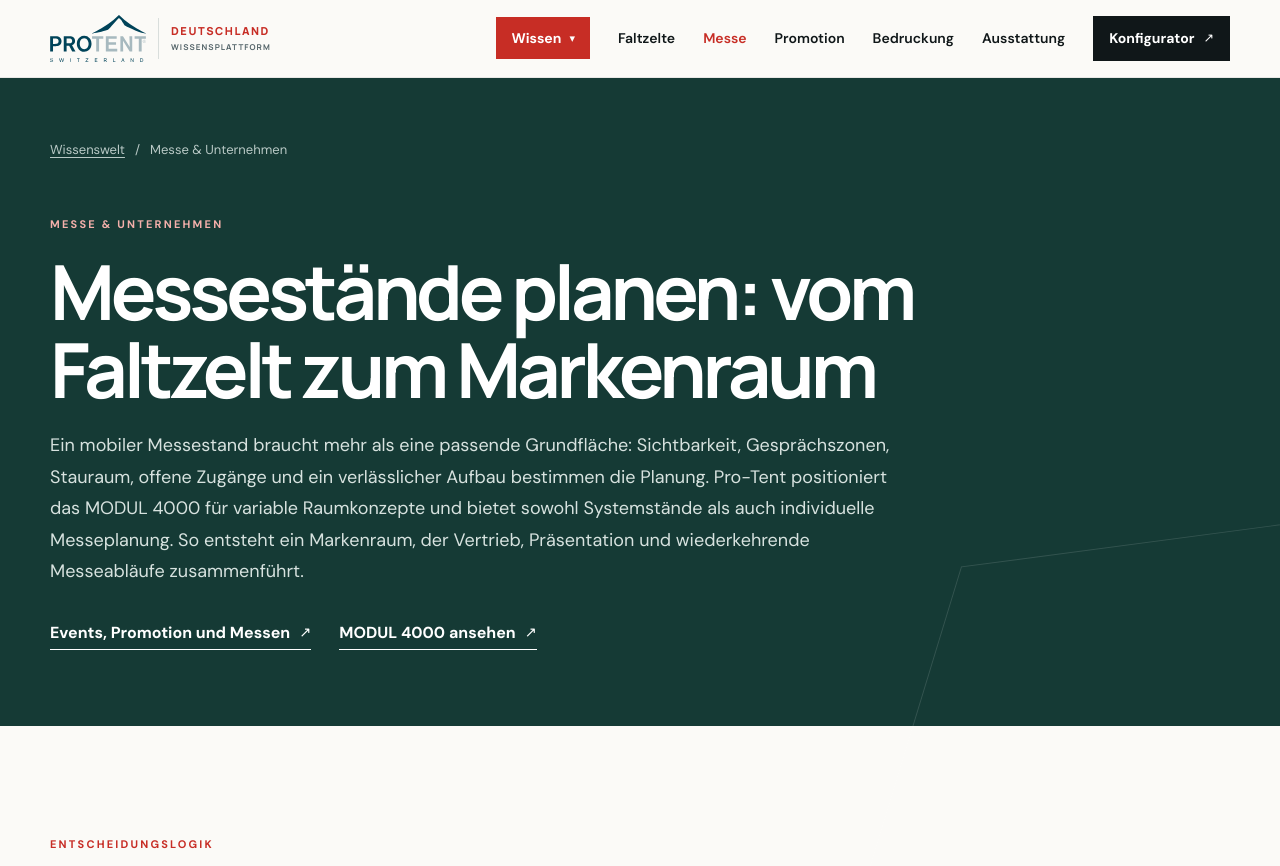
Test: routing › öffnet unter Wissen erst Themenbereiche und danach deren einzelne Wissensseiten
Click the button "Wissen": coordinates (543, 38) [496, 18, 590, 60]
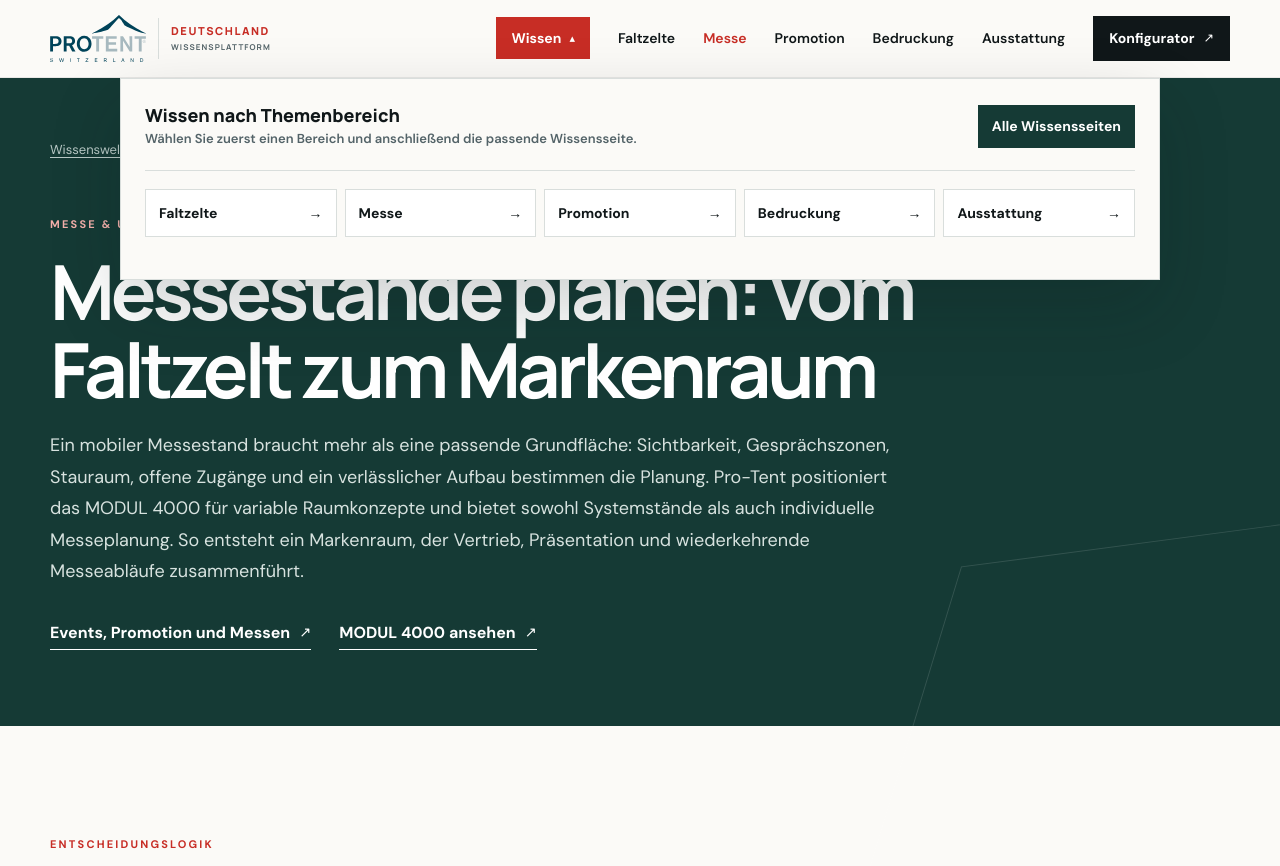
Click the button "Faltzelte →": coordinates (241, 213) [145, 189, 337, 237]
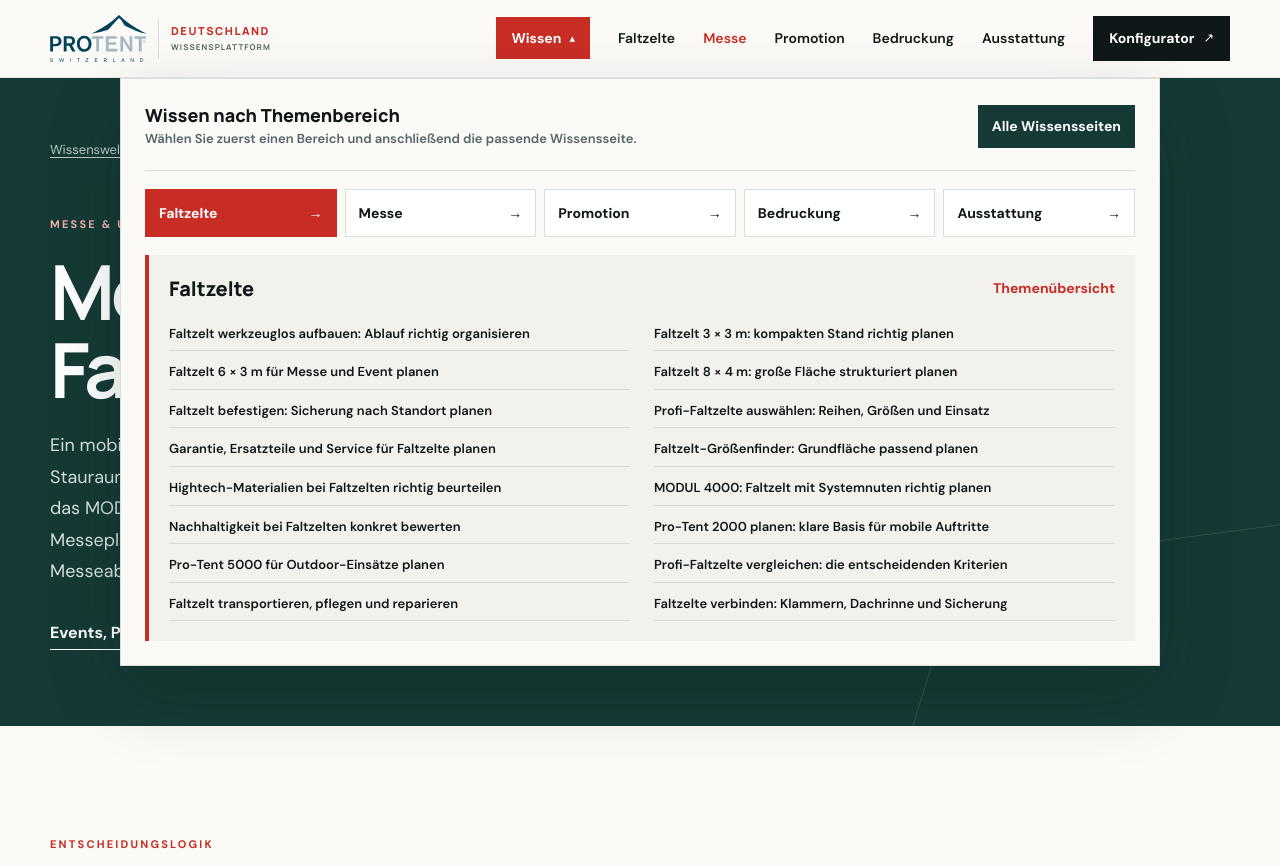
Click the link "Faltzelt werkzeuglos aufbauen: Ablauf richtig organisieren": coordinates (400, 334) [169, 317, 630, 351]
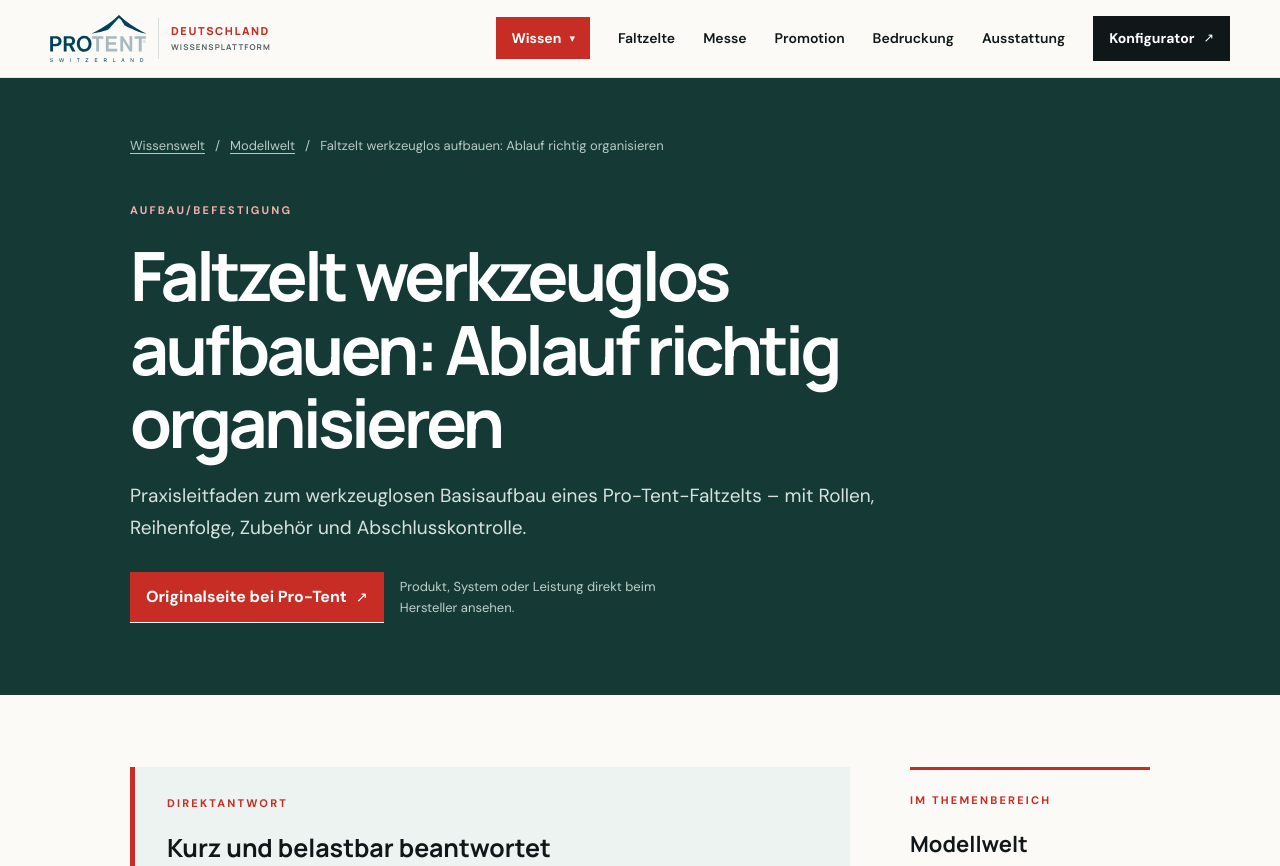
Expected: the link "Faltzelte" is shown, [618, 27, 675, 50]
Now the heading "Faltzelt werkzeuglos aufbauen: Ablauf richtig organisieren" is shown, box [130, 229, 838, 468]
